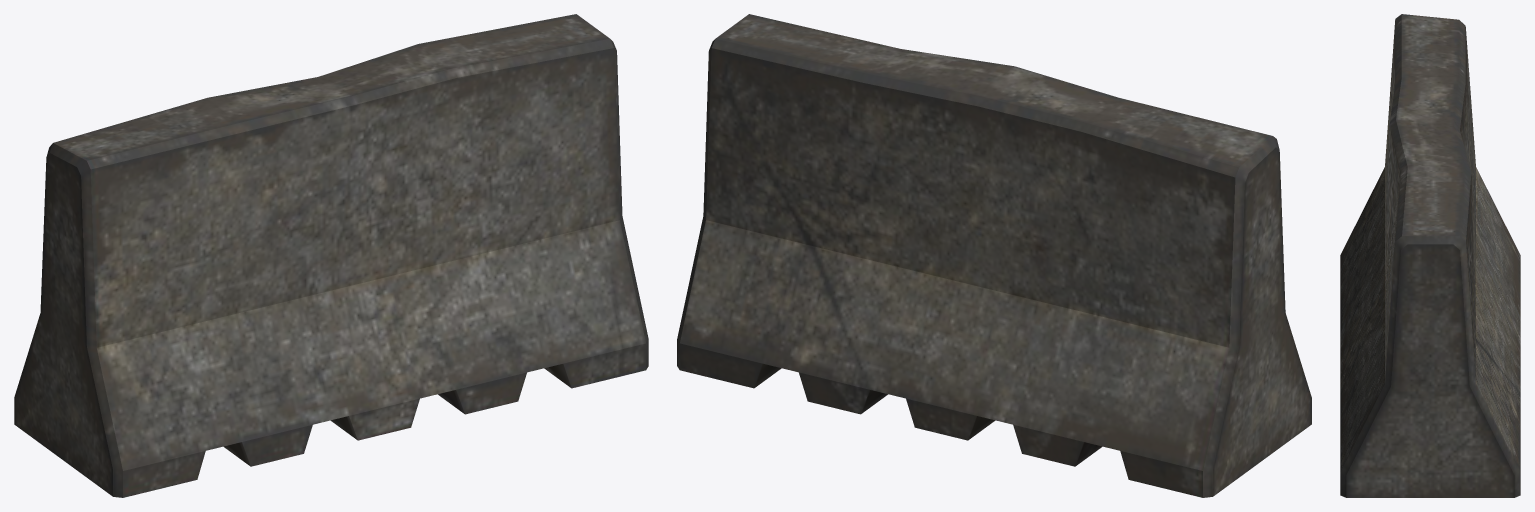
Rendered from ConcreteBarricade.FBX.
3 renders of one model, left to right at view 1: azimuth 30°, elevation 25°; view 2: azimuth 150°, elevation 25°; view 3: azimuth 270°, elevation 25°, orthographic. The views are drawn at different scales.
Parts seen in each view (by area): view 1: ConcreteBarricade; view 2: ConcreteBarricade; view 3: ConcreteBarricade.
Part boxes in pixels (x1,y1,x2,y2): ConcreteBarricade: (14,14,648,497); ConcreteBarricade: (677,14,1311,497); ConcreteBarricade: (1340,14,1520,497).
Bounding box in the file's own units: 67.51 × 37.79 × 23.14.
